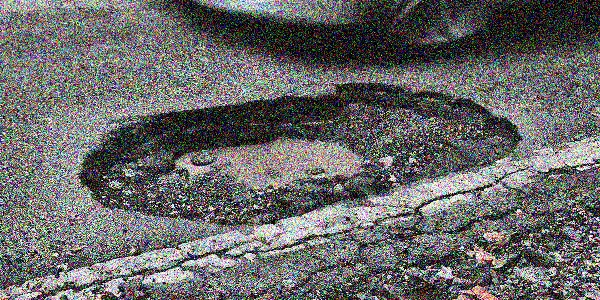pothole: (78, 79, 526, 228)
